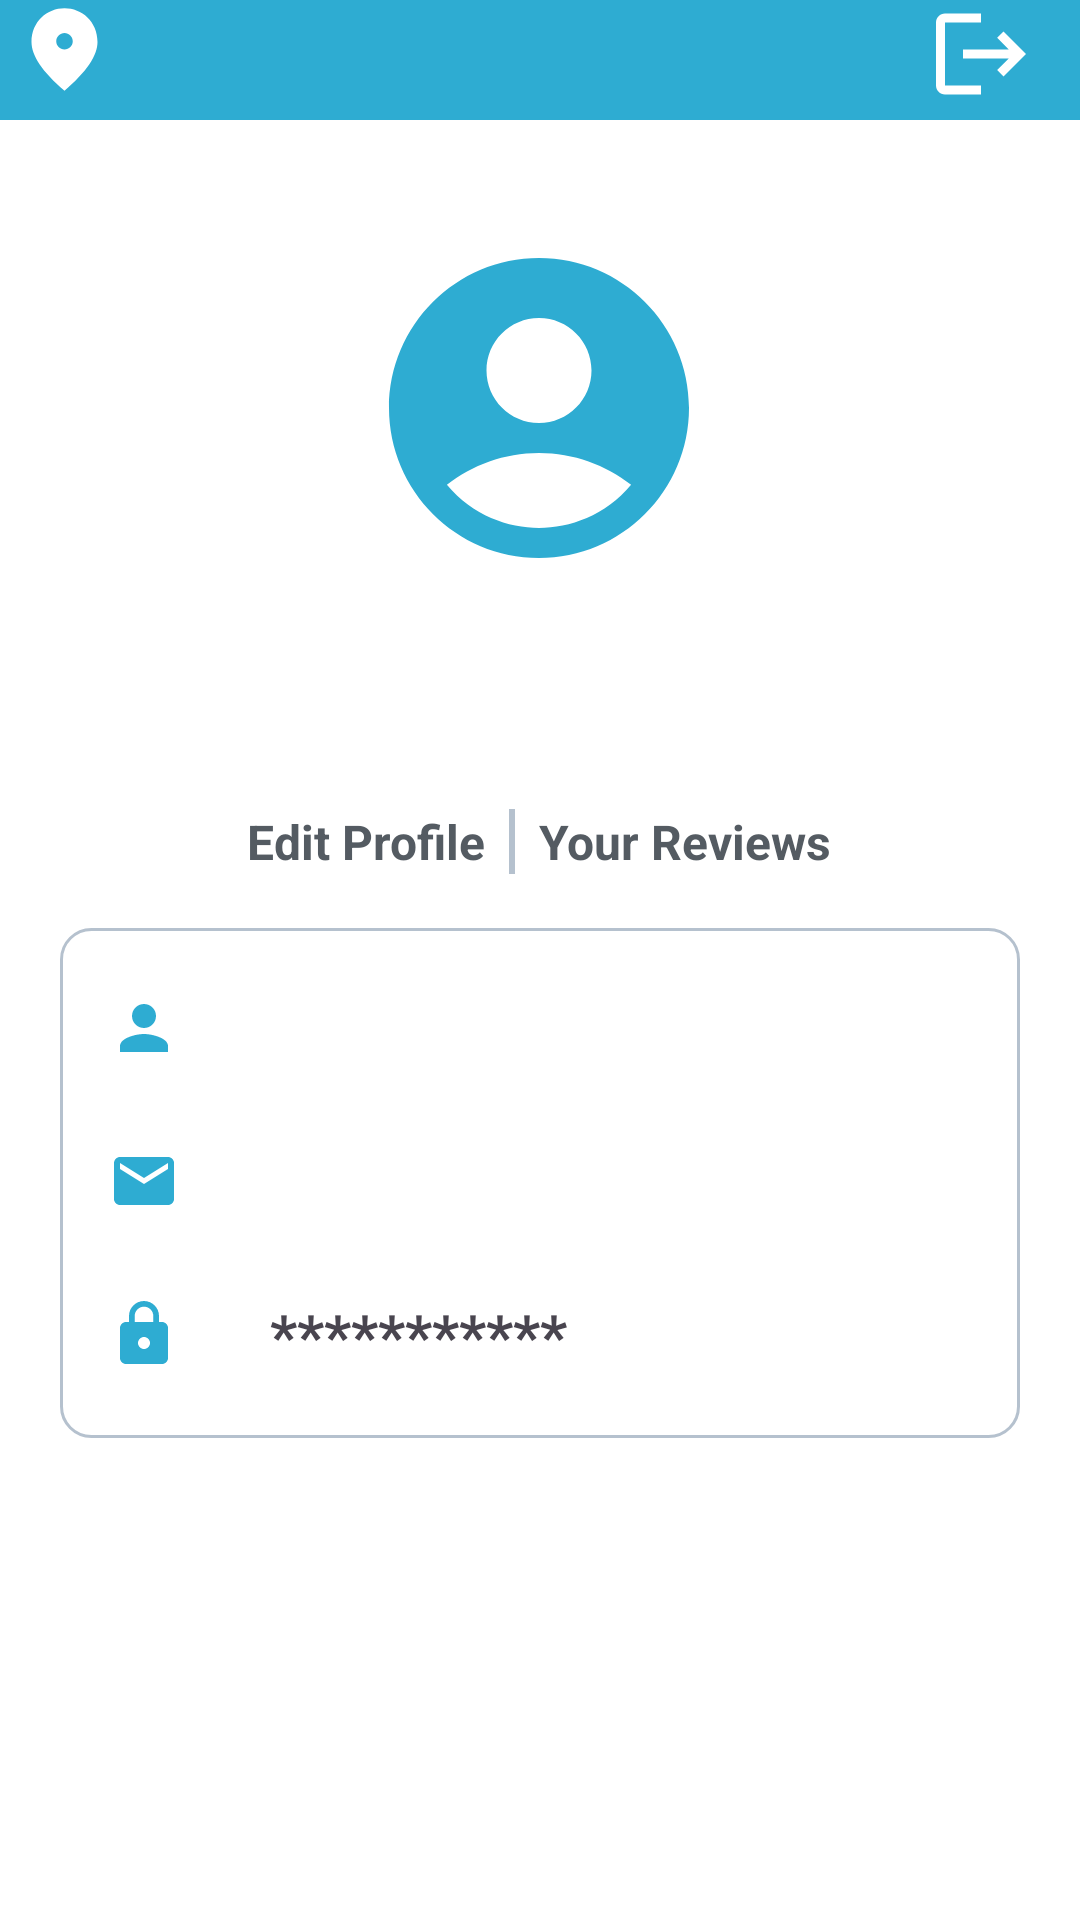

Where icons sit on this 1080x1920 app screen, as {"x1": x1, "y1": y1, "x2": x2, "y2": y2}:
back to map: {"x1": 31, "y1": 8, "x2": 98, "y2": 91}
profile pic: {"x1": 389, "y1": 258, "x2": 689, "y2": 558}
